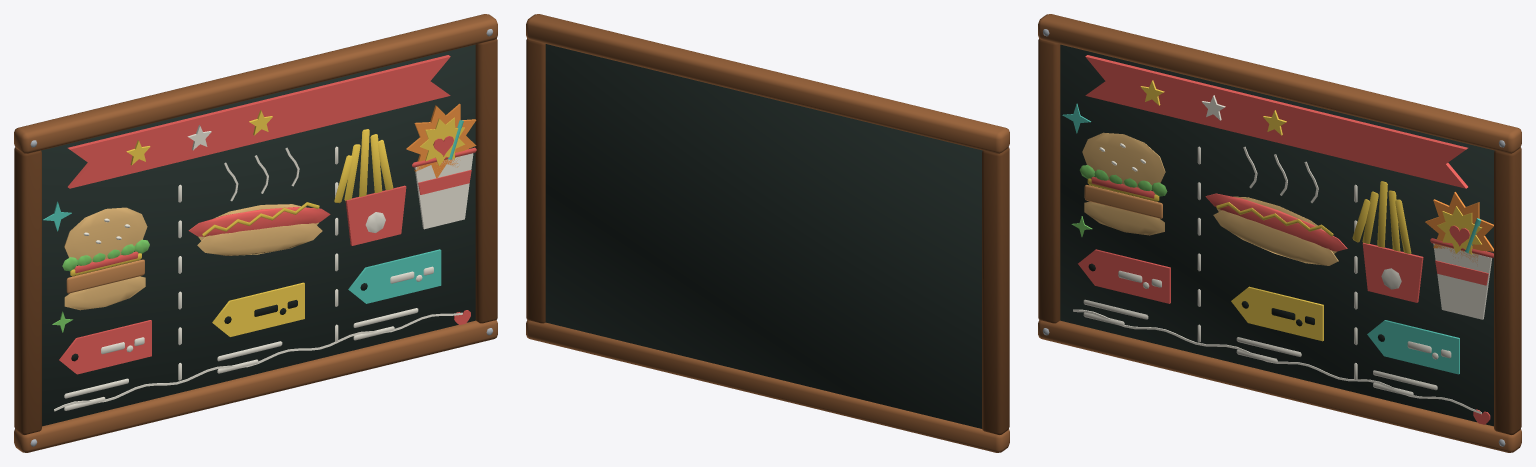
The model's file is truck_menu_board.glb.
The picture shows the model from 3 angles, left to right: view 1: azimuth 30°, elevation 25°; view 2: azimuth 150°, elevation 25°; view 3: azimuth 330°, elevation 25°; orthographic projection.
Parts seen in each view (by area): view 1: TruckMenuBoard; view 2: TruckMenuBoard; view 3: TruckMenuBoard.
Part boxes in pixels (<box>): TruckMenuBoard: <box>14,14,497,452</box>; TruckMenuBoard: <box>526,14,1009,452</box>; TruckMenuBoard: <box>1038,14,1521,452</box>.
Bounding box in the file's own units: 14 × 9 × 0.63.
